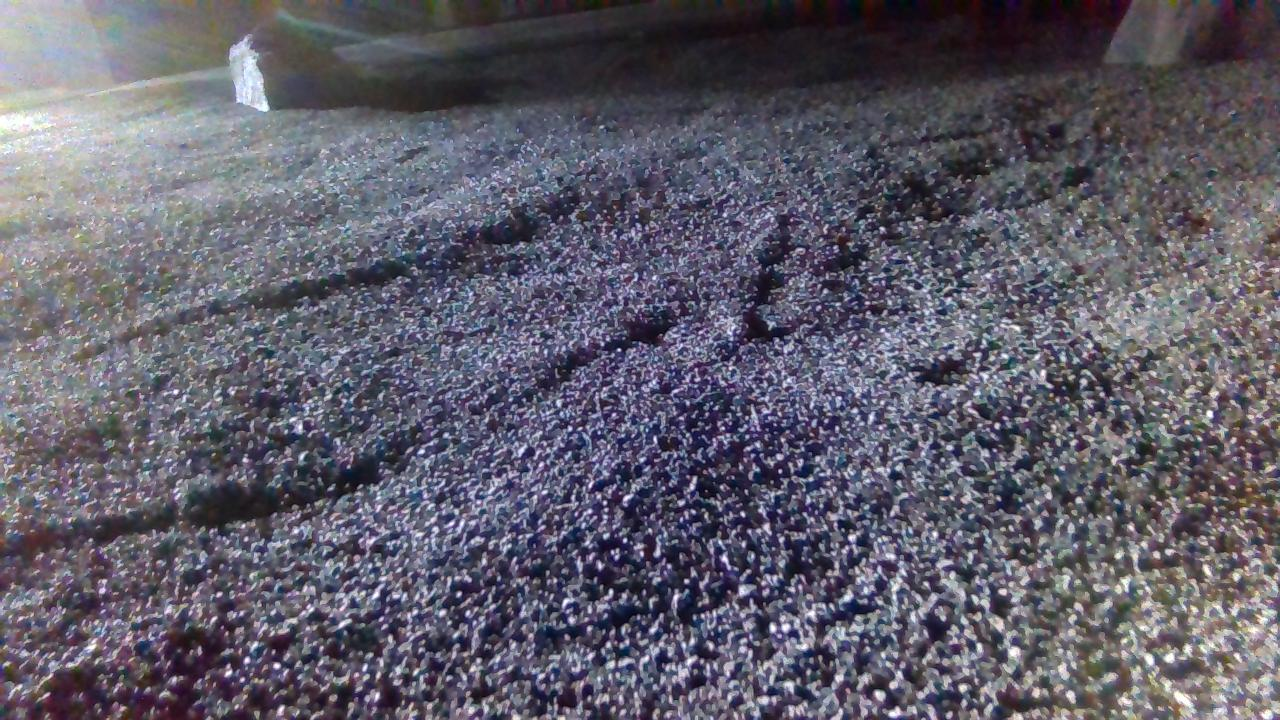rock: (1107, 0, 1280, 64), (229, 33, 268, 110)
